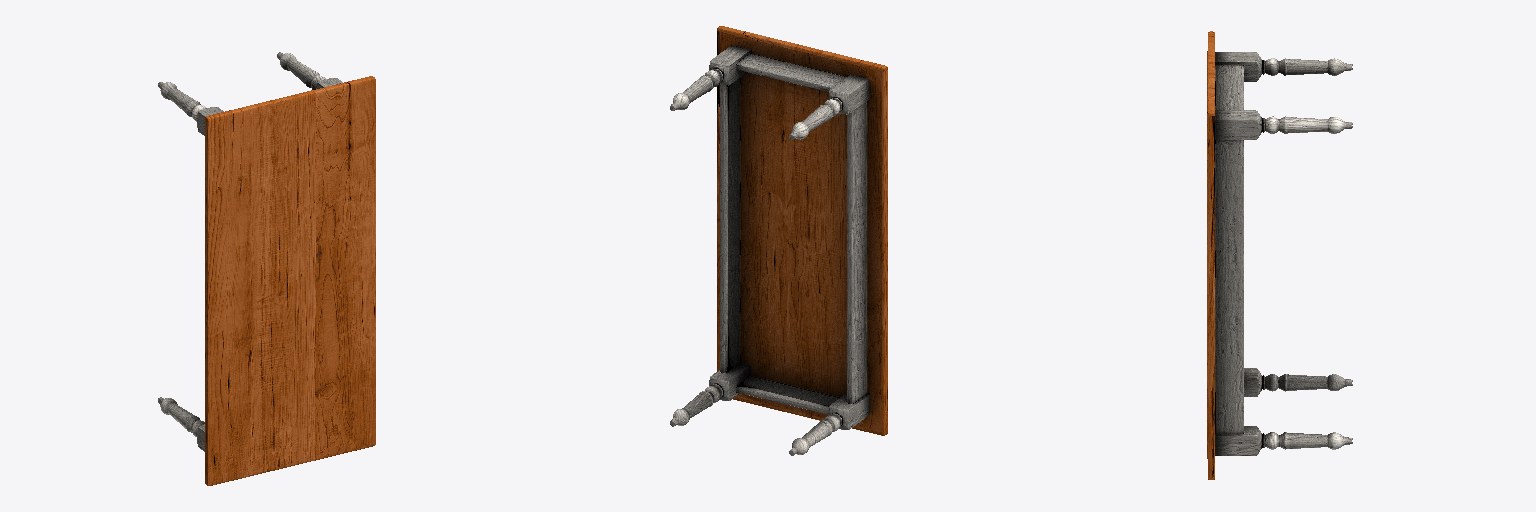
3 views of the same model, side by side, from view 1: azimuth 30°, elevation 25°; view 2: azimuth 150°, elevation 25°; view 3: azimuth 270°, elevation 25° (orthographic).
Visible parts, largest first — view 1: 10233_Kitchen_Table_v1; view 2: 10233_Kitchen_Table_v1; view 3: 10233_Kitchen_Table_v1.
Part boxes in pixels (left/top/right/bottom): 10233_Kitchen_Table_v1: left=158, top=52, right=375, bottom=485; 10233_Kitchen_Table_v1: left=670, top=26, right=887, bottom=455; 10233_Kitchen_Table_v1: left=1207, top=31, right=1352, bottom=479.
Bounding box in the file's own units: 102 × 213 × 75.95.
1 materials, 1 textured.